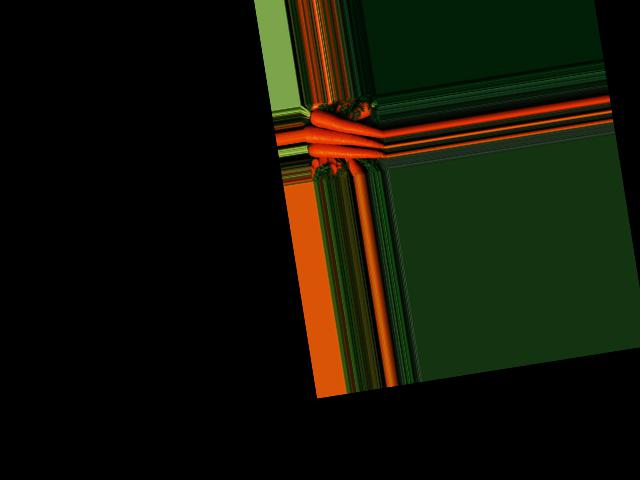carrot: (309, 98, 382, 149)
